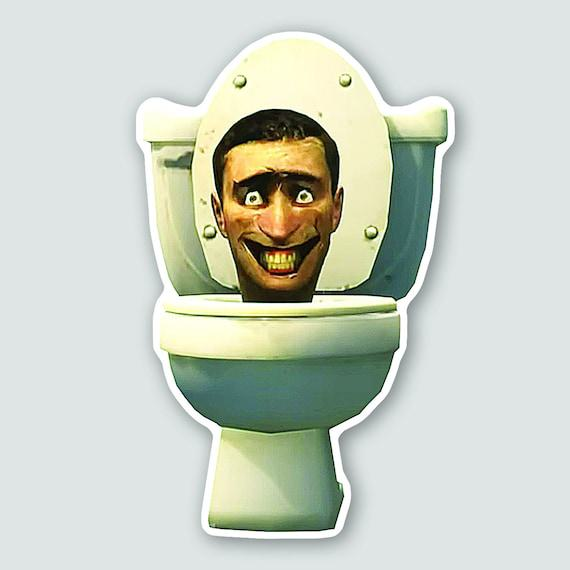skibidi-toilet: (214, 118, 348, 294)
